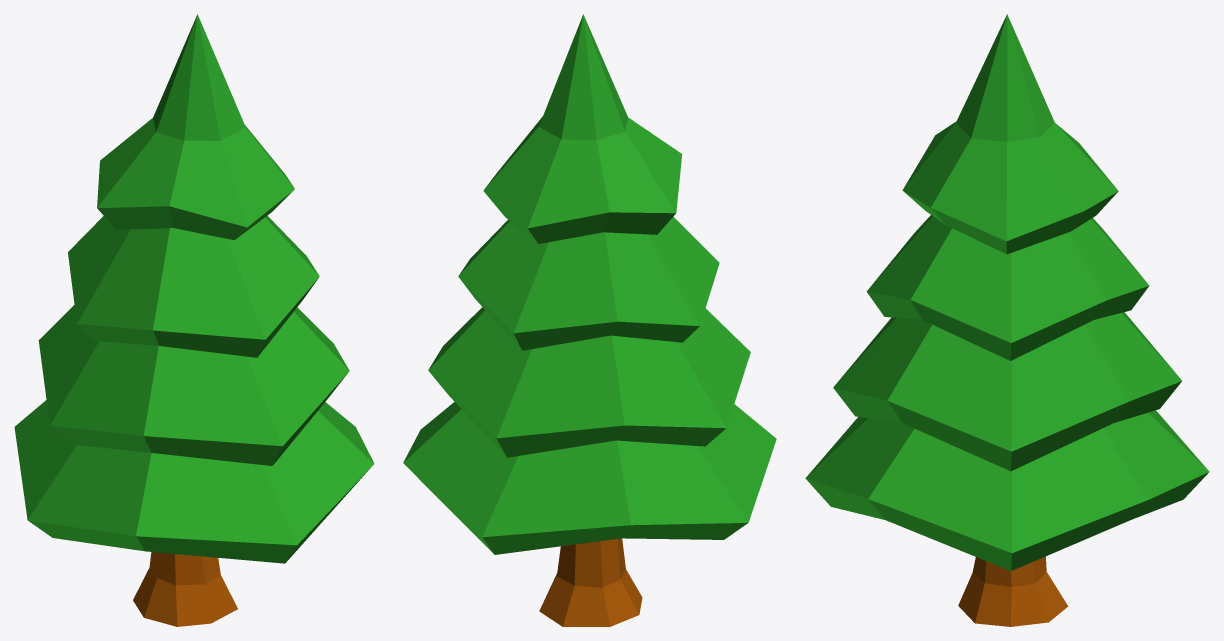
File: Tree_Spruce1.fbx
3 views of the same model, side by side, from view 1: azimuth 30°, elevation 25°; view 2: azimuth 150°, elevation 25°; view 3: azimuth 270°, elevation 25° (orthographic).
Visible parts, largest first — view 1: Tree_Spruce1; view 2: Tree_Spruce1; view 3: Tree_Spruce1.
Part boxes in pixels (bbox=[...]): Tree_Spruce1: bbox=[14, 14, 374, 626]; Tree_Spruce1: bbox=[403, 14, 776, 626]; Tree_Spruce1: bbox=[805, 14, 1209, 626].
Size of the model in its own units: 6.72 by 7.07 by 11.53.
